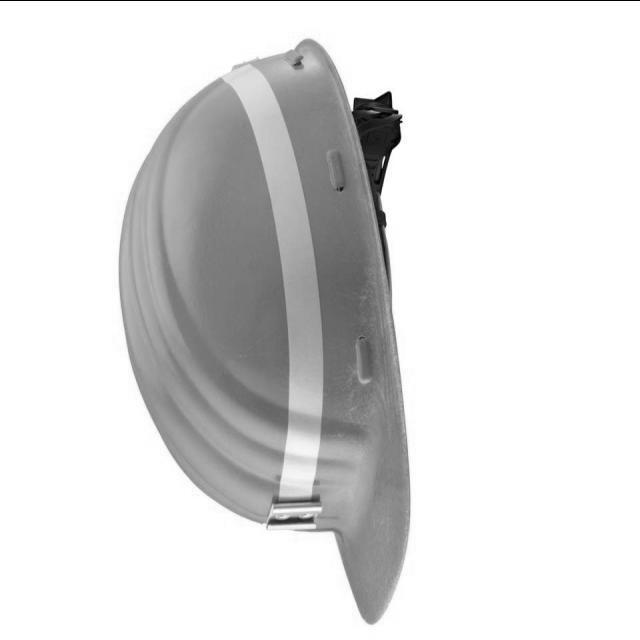safety_helmet: (119, 35, 415, 626)
